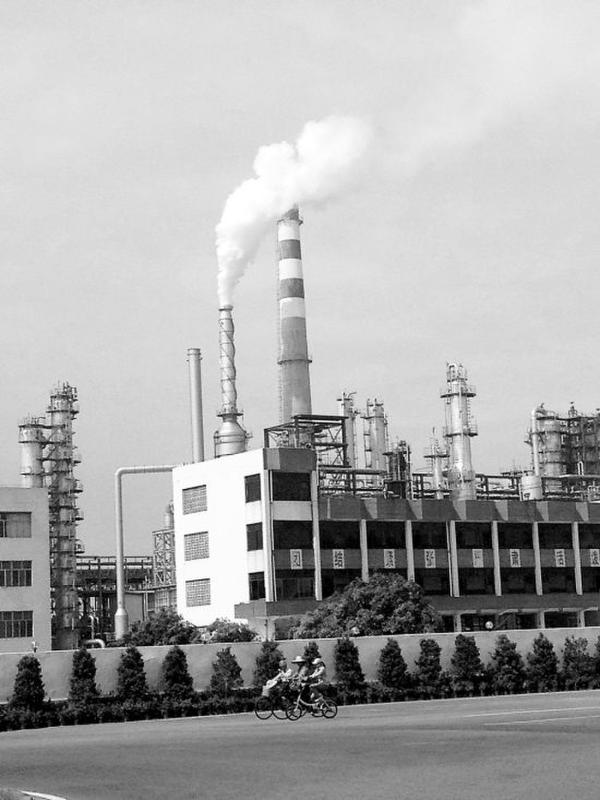dust: (209, 121, 354, 313)
